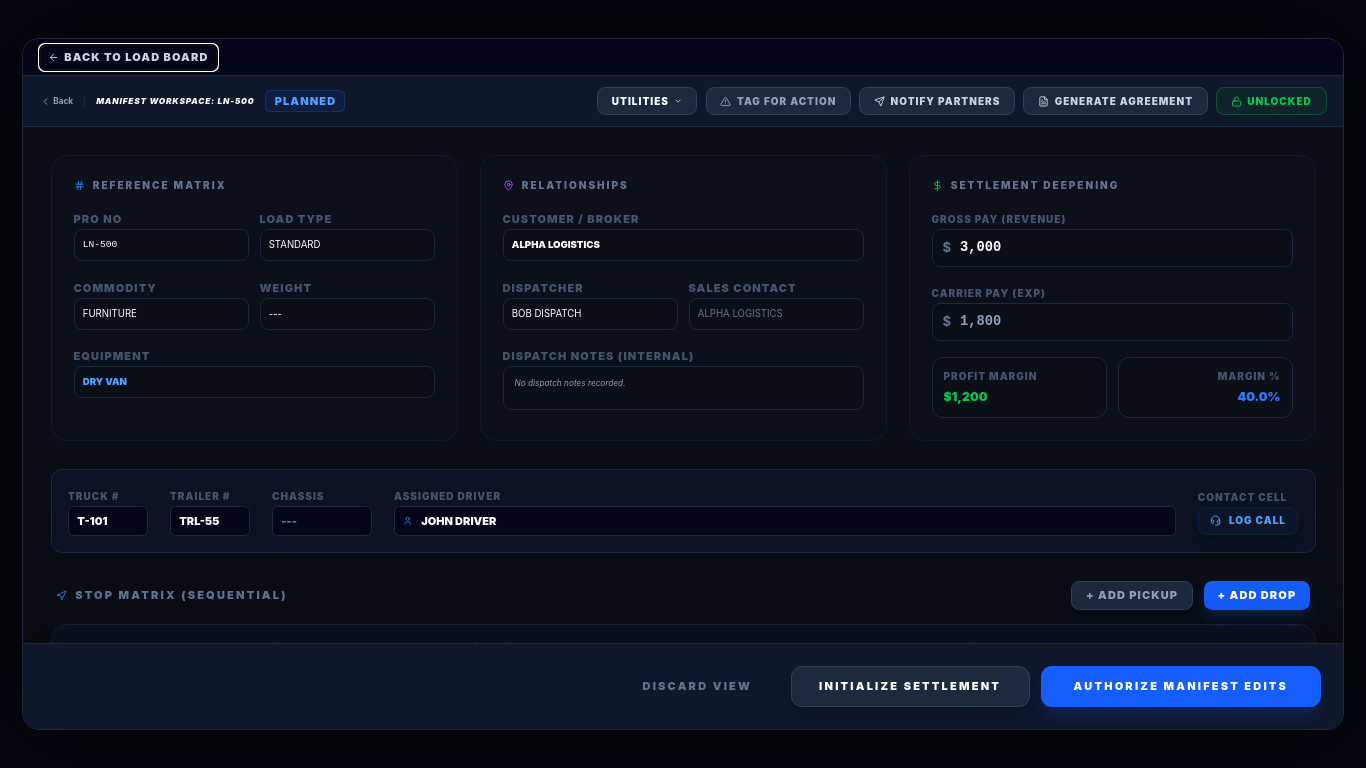
Test: LoadDetailView deep coverage — lines 151-190 › toast display after invoice generation (lines 175-180) › renders success toast after Initialize Settlement succeeds
The image size is (1366, 768).
Click the button "Initialize Settlement": [910, 686] box x1=791 y1=666 x2=1030 y2=707
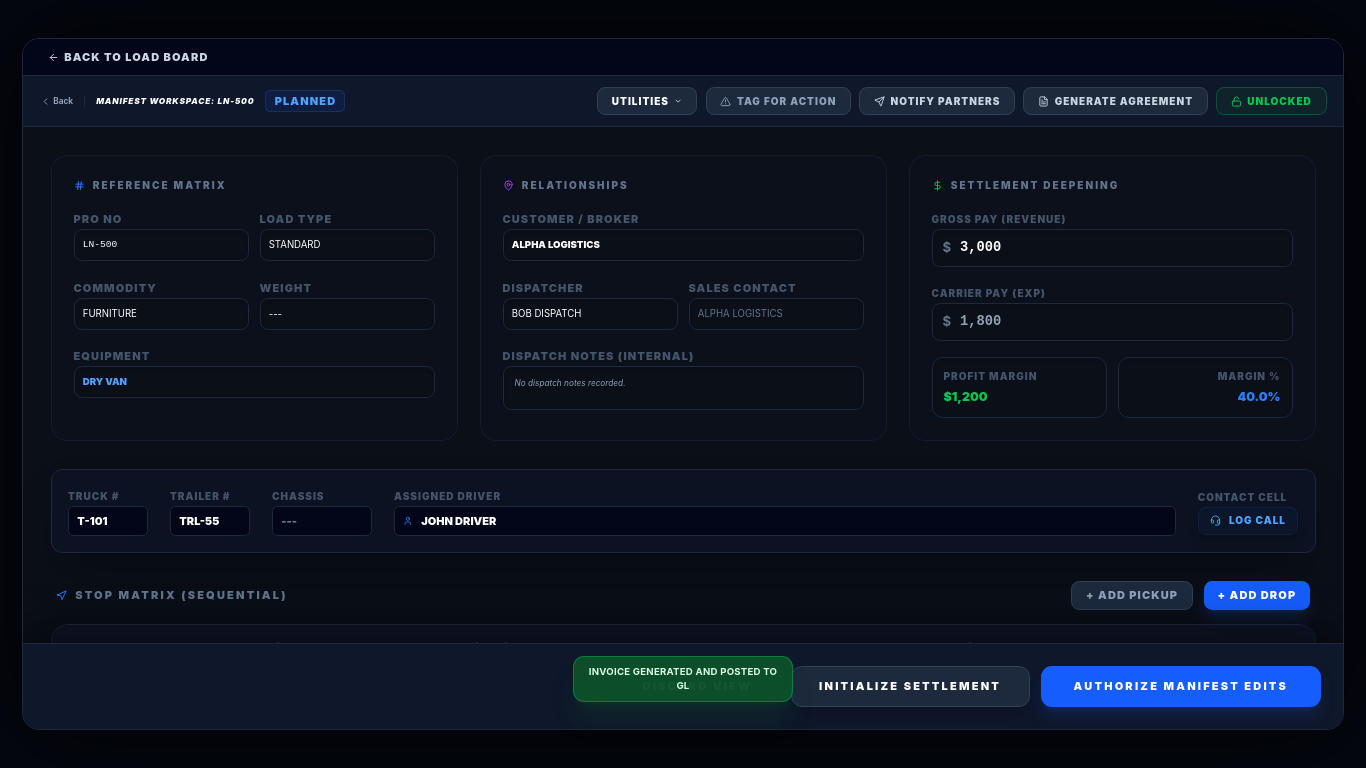
Expected: the text "Invoice Generated and posted to GL" is shown, x1=573 y1=656 x2=793 y2=702
